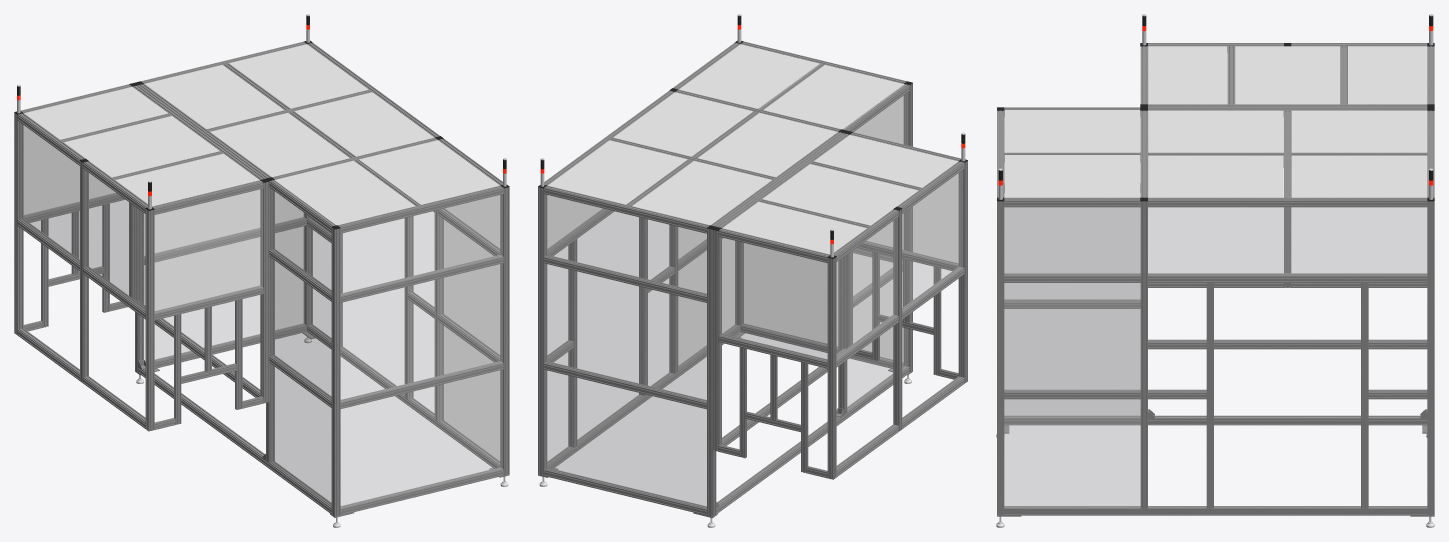
3 views of the same model, side by side, from view 1: azimuth 30°, elevation 25°; view 2: azimuth 150°, elevation 25°; view 3: azimuth 270°, elevation 25° (orthographic). The views are drawn at different scales.
Visible parts, largest first — view 1: 07_B_acryl, 07_B_frame_almi, 07_B_panel; view 2: 07_B_acryl, 07_B_frame_almi, 07_B_panel, 07_B_lamp; view 3: 07_B_acryl, 07_B_panel, 07_B_frame_almi, 07_B_lamp.
Boxes of the visible parts, <box> form: 07_B_acryl: <box>19,122,502,508</box>; 07_B_frame_almi: <box>14,41,509,517</box>; 07_B_panel: <box>24,44,499,225</box>; 07_B_acryl: <box>545,93,962,508</box>; 07_B_frame_almi: <box>538,41,967,517</box>; 07_B_panel: <box>548,44,957,254</box>; 07_B_lamp: <box>540,14,965,257</box>; 07_B_acryl: <box>1004,207,1426,507</box>; 07_B_panel: <box>1004,46,1427,197</box>; 07_B_frame_almi: <box>997,43,1434,516</box>; 07_B_lamp: <box>998,14,1433,199</box>.
Size of the model in its own units: 3.04 by 3.21 by 3.58.
Materials: 6 (2 with a texture image).
